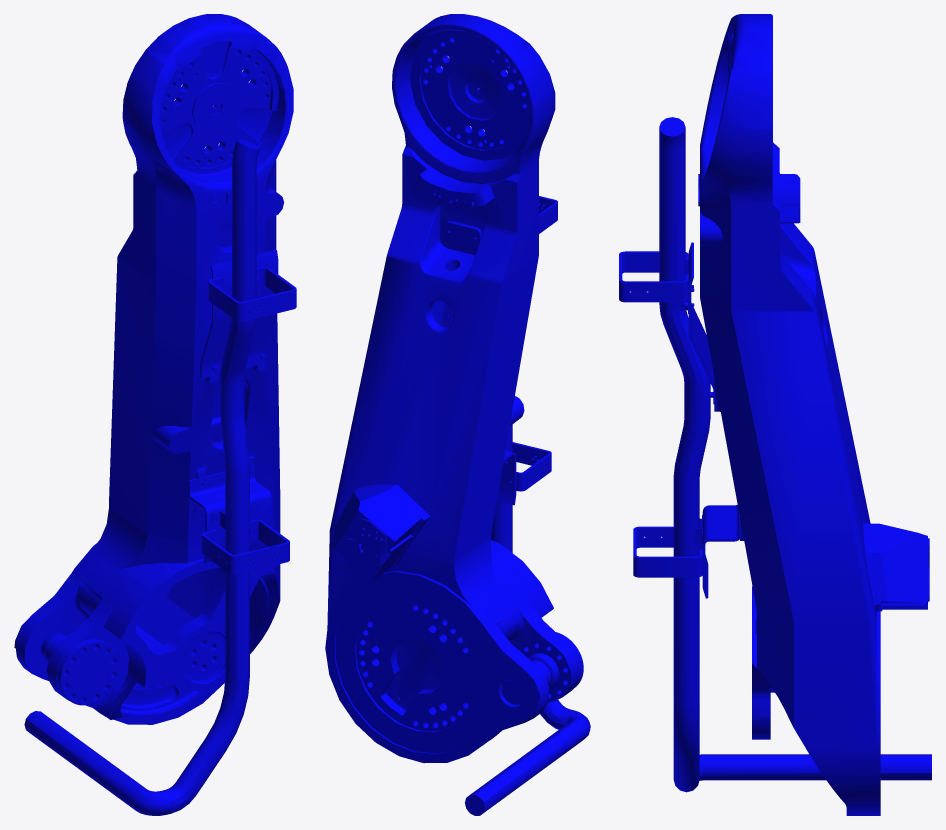
File: es165d_L_AXIS.dae
3 views of the same model, side by side, from view 1: azimuth 30°, elevation 25°; view 2: azimuth 150°, elevation 25°; view 3: azimuth 270°, elevation 25° (orthographic). The views are drawn at different scales.
Visible parts, largest first — view 1: node; view 2: node; view 3: node.
Boxes of the visible parts, x1=… form: node: x1=14, y1=14, x2=296, y2=815; node: x1=325, y1=14, x2=590, y2=815; node: x1=619, y1=14, x2=931, y2=815.
Size of the model in its own units: 0.487 by 0.5486 by 1.55.
